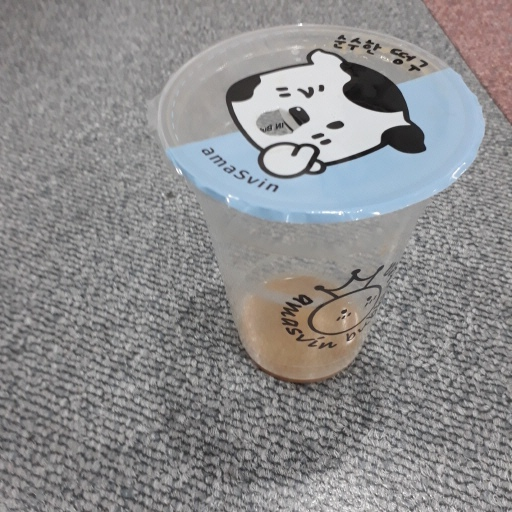Plastic_2: (156, 21, 486, 381)
